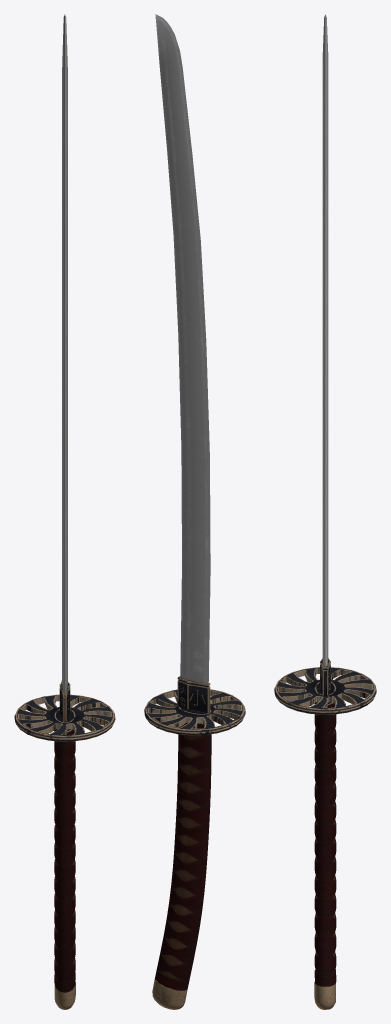
The model's file is antique_katana_01.glb.
3 renders of one model, left to right at view 1: azimuth 90°, elevation 25°; view 2: azimuth 150°, elevation 25°; view 3: azimuth 270°, elevation 25°, orthographic.
Visible parts, largest first — view 1: antique_katana_01; view 2: antique_katana_01; view 3: antique_katana_01.
Boxes of the visible parts, bbox=[...] form: antique_katana_01: bbox=[14, 14, 115, 1009]; antique_katana_01: bbox=[144, 14, 245, 1009]; antique_katana_01: bbox=[274, 14, 376, 1009].
Bounding box in the file's own units: 0.0934 × 1 × 0.0934.
1 material, 1 textured.
